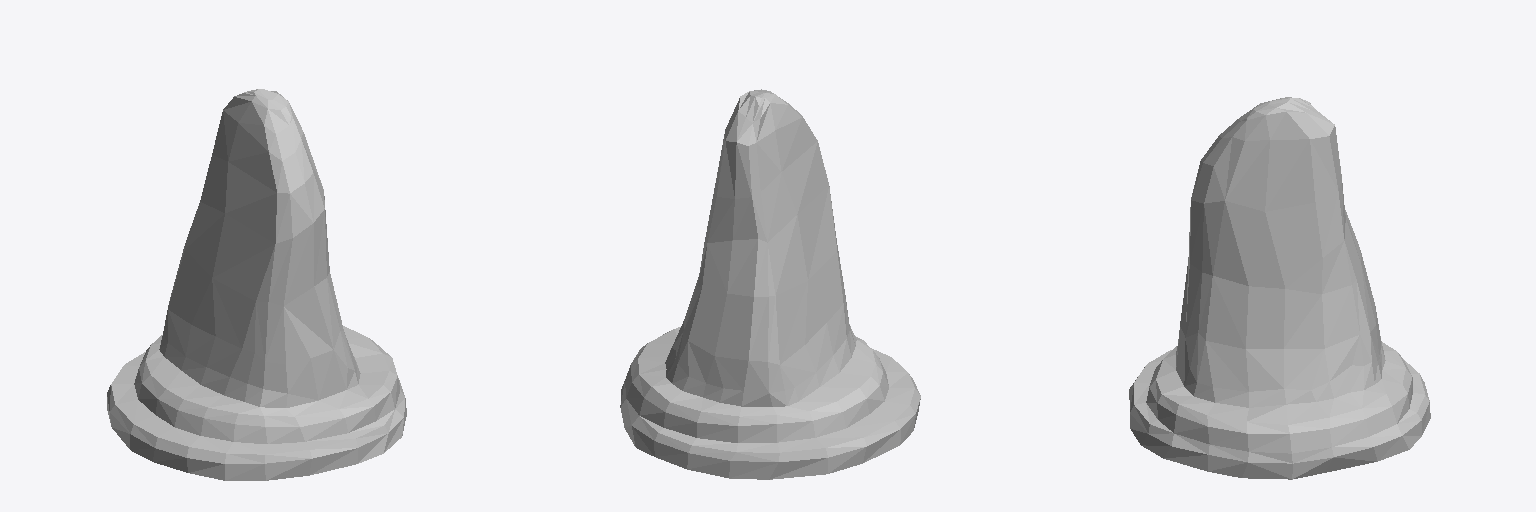
File: rune_04_mesh.obj
3 views of the same model, side by side, from view 1: azimuth 30°, elevation 25°; view 2: azimuth 150°, elevation 25°; view 3: azimuth 270°, elevation 25° (orthographic).
Visible parts, largest first — view 1: rune_04; view 2: rune_04; view 3: rune_04.
Part boxes in pixels (x1,y1,x2,y2): rune_04: (107, 89, 406, 480); rune_04: (620, 89, 920, 479); rune_04: (1129, 97, 1430, 479).
Bounding box in the file's own units: 7.22 × 8.62 × 7.3.